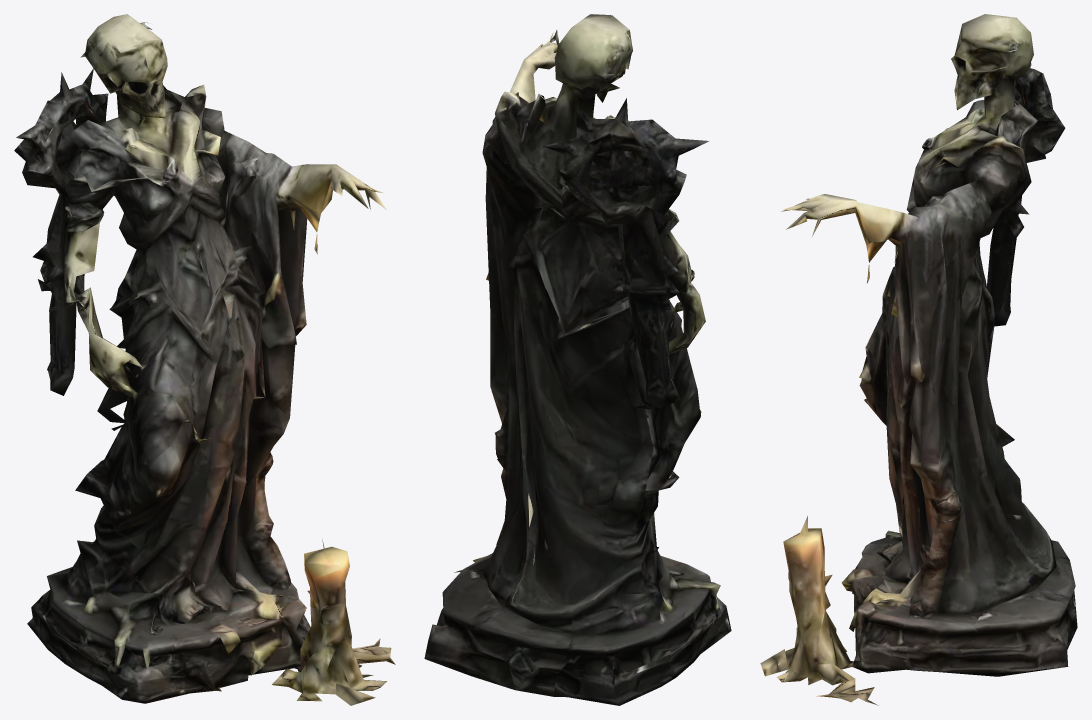
Rendered from broken_statue.glb.
3 views of the same model, side by side, from view 1: azimuth 30°, elevation 25°; view 2: azimuth 150°, elevation 25°; view 3: azimuth 270°, elevation 25° (orthographic). The views are drawn at different scales.
Visible parts, largest first — view 1: tripo_node_8b157023-9472-4274-be13-b049465442e6; view 2: tripo_node_8b157023-9472-4274-be13-b049465442e6; view 3: tripo_node_8b157023-9472-4274-be13-b049465442e6.
Part boxes in pixels (box(x1,y1,x2,y2)): tripo_node_8b157023-9472-4274-be13-b049465442e6: box(14, 14, 395, 705); tripo_node_8b157023-9472-4274-be13-b049465442e6: box(424, 14, 731, 705); tripo_node_8b157023-9472-4274-be13-b049465442e6: box(760, 14, 1077, 705).
Size of the model in its own units: 0.5023 by 0.9802 by 0.4688.
Materials: 1 (1 with a texture image).
